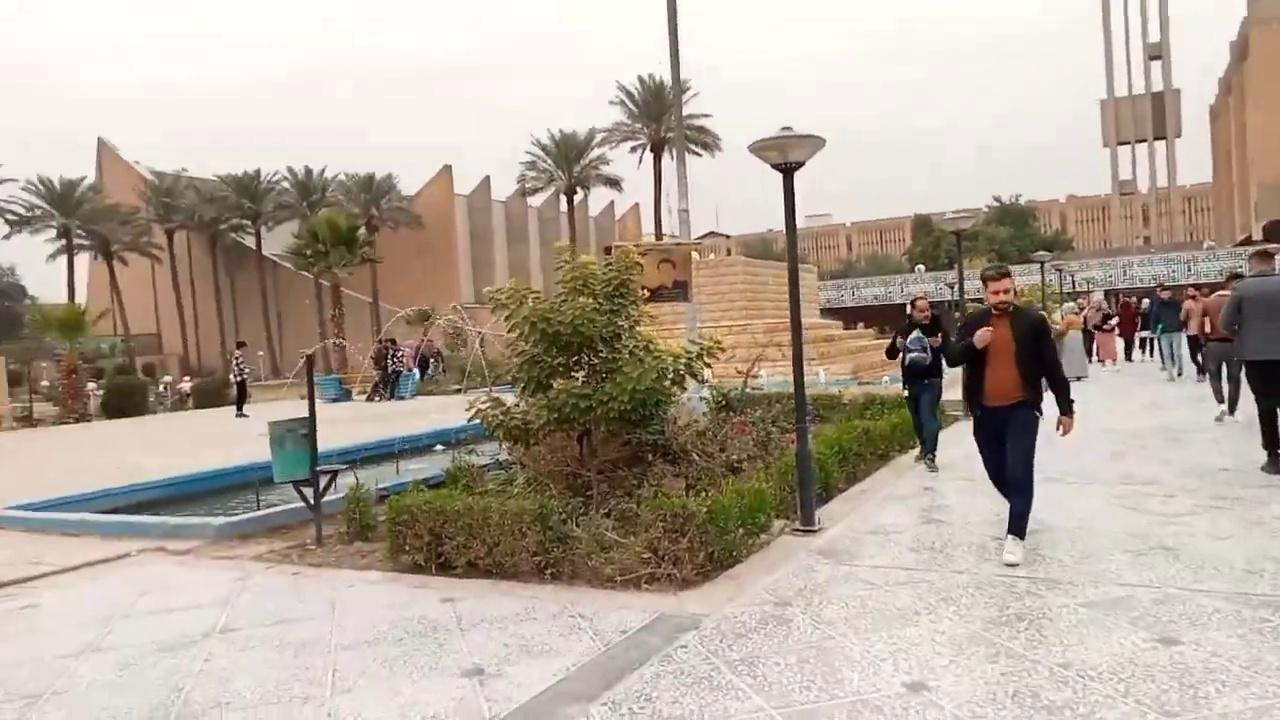fountain: (0, 381, 955, 548)
person: (941, 263, 1074, 566), (1218, 247, 1279, 474), (884, 295, 949, 472), (229, 340, 254, 417), (174, 374, 193, 409)
tree: (461, 240, 724, 511), (2, 171, 138, 421), (900, 191, 1075, 316), (595, 71, 722, 240), (211, 166, 294, 379), (282, 208, 383, 378), (4, 171, 132, 304), (269, 163, 348, 375), (332, 169, 424, 346), (72, 200, 165, 372), (181, 175, 248, 400), (515, 125, 623, 251), (141, 169, 204, 377), (24, 298, 113, 423), (961, 191, 1074, 267), (270, 162, 345, 226), (900, 211, 952, 272)
